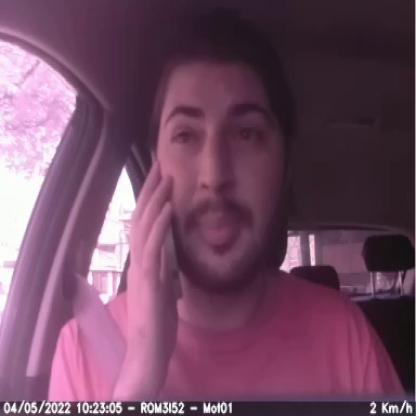phone: (143, 147, 184, 303)
